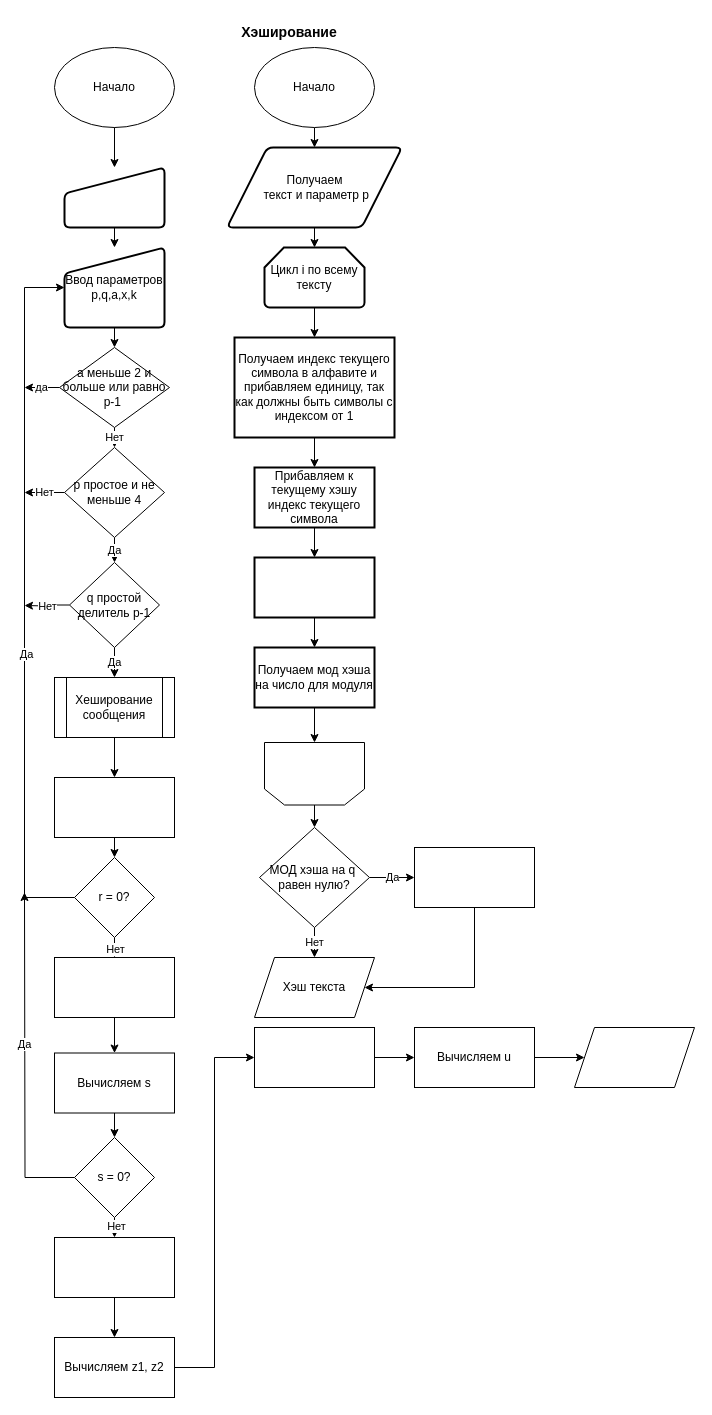
Some shapes in this 712 by 1415 pixel diagram are drawn without their labels. The shapes that lost their labels are listed below. From the top down, each one's centre as x and y in pixels, then its label:
(114,197): Ввод текста
(314,587): Возводим получившийся хэш в квадрат
(314,773): i+1
(114,807): Вычисляем r
(474,877): Добавить единицу
(114,987): Вычисляем y
(314,1057): Вычисляем u1, u2
(634,1057): Выводим r и u
(114,1267): Вычисляем v
